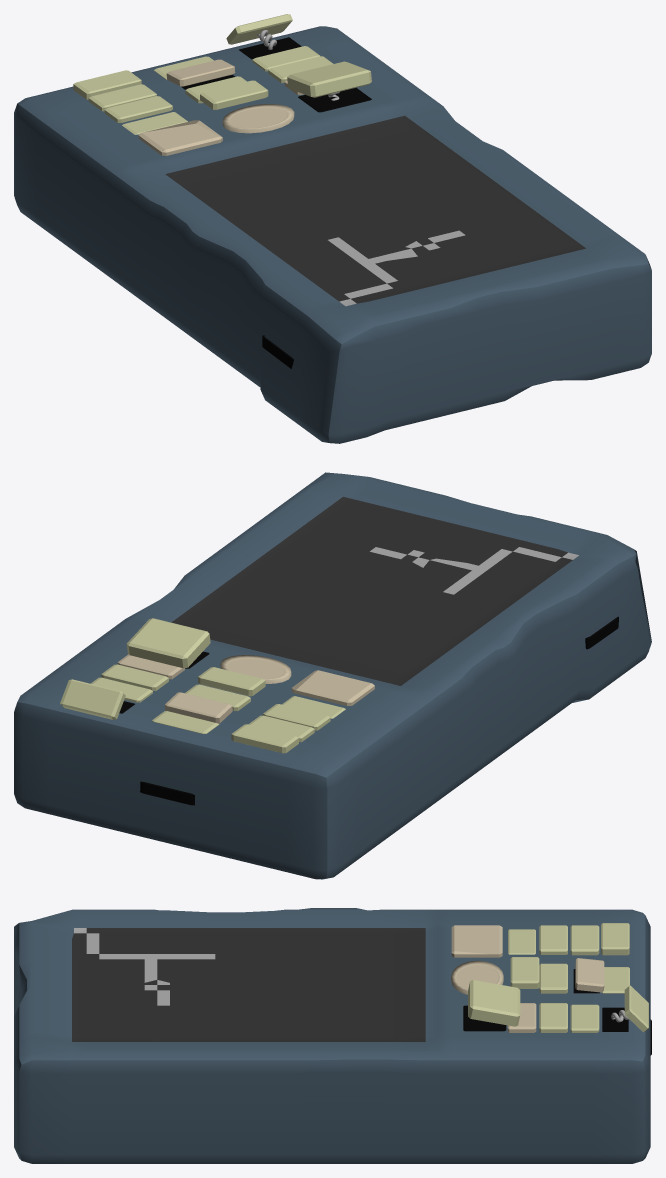
File: telephone3.fbx
3 views of the same model, one above another, from view 1: azimuth 30°, elevation 25°; view 2: azimuth 150°, elevation 25°; view 3: azimuth 270°, elevation 25° (orthographic). The views are drawn at different scales.
Parts seen in each view (by area): view 1: polySurface39; view 2: polySurface39; view 3: polySurface39.
Part boxes in pixels (x1,y1,x2,y2): polySurface39: (14,14,651,443); polySurface39: (14,472,651,879); polySurface39: (14,908,651,1163).
Size of the model in its own units: 1.63 by 0.6756 by 2.77.
